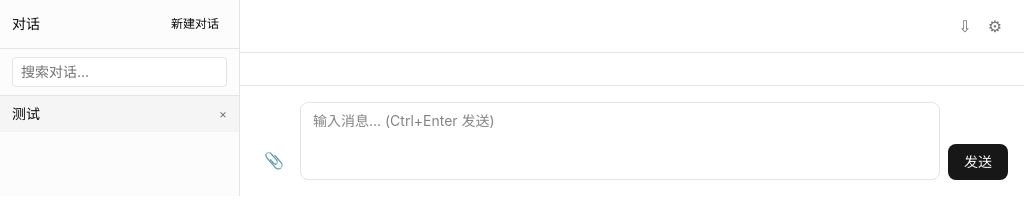
Test: ChatView › 点击导出按钮显示格式选择
Click the button titled "导出对话" at point(965, 26), box [952,8,978,44]
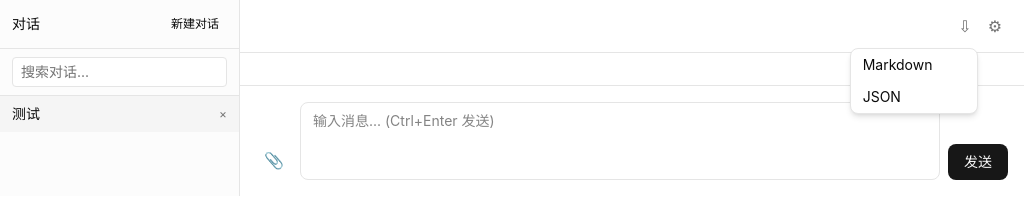
Expected: the button "Markdown" is shown, [851,49,977,81]
Expected: the button "JSON" is shown, [851,81,977,113]
